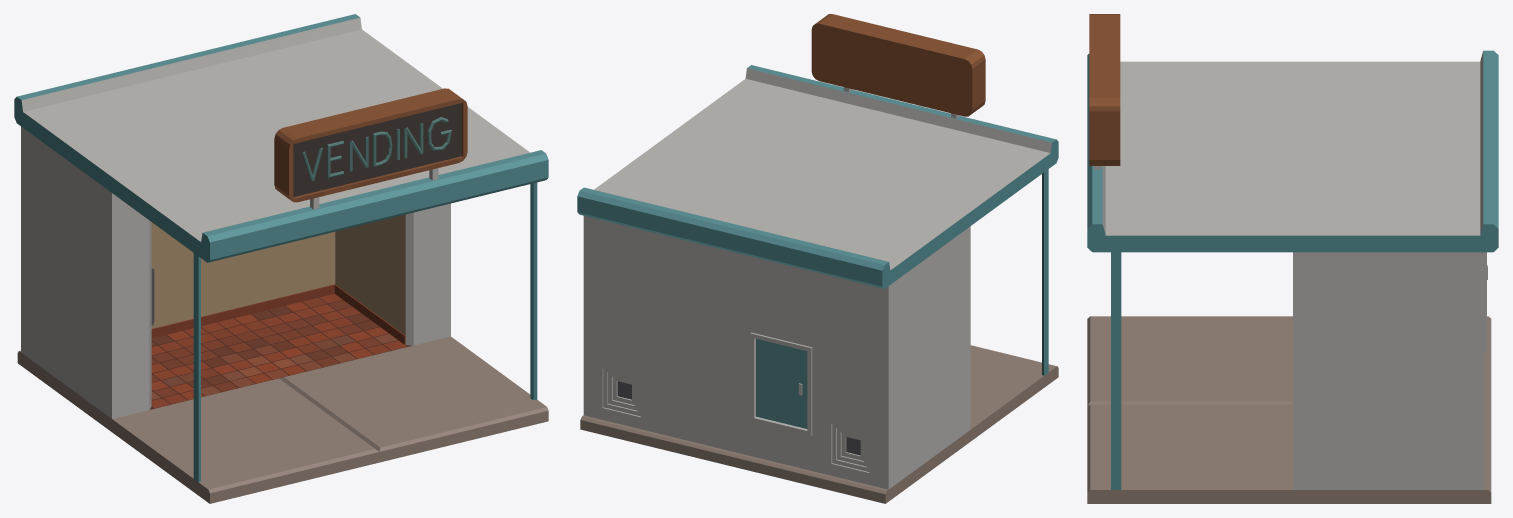
File: vending-alcove-f786aa.glb
The picture shows the model from 3 angles, left to right: view 1: azimuth 30°, elevation 25°; view 2: azimuth 150°, elevation 25°; view 3: azimuth 270°, elevation 25°; orthographic projection. The views are drawn at different scales.
Parts seen in each view (by area): view 1: alcove; view 2: alcove; view 3: alcove.
Boxes of the visible parts, x1=… form: alcove: x1=14, y1=14, x2=548, y2=503; alcove: x1=577, y1=14, x2=1058, y2=503; alcove: x1=1087, y1=14, x2=1498, y2=503.
Size of the model in its own units: 4 by 3.87 by 4.
